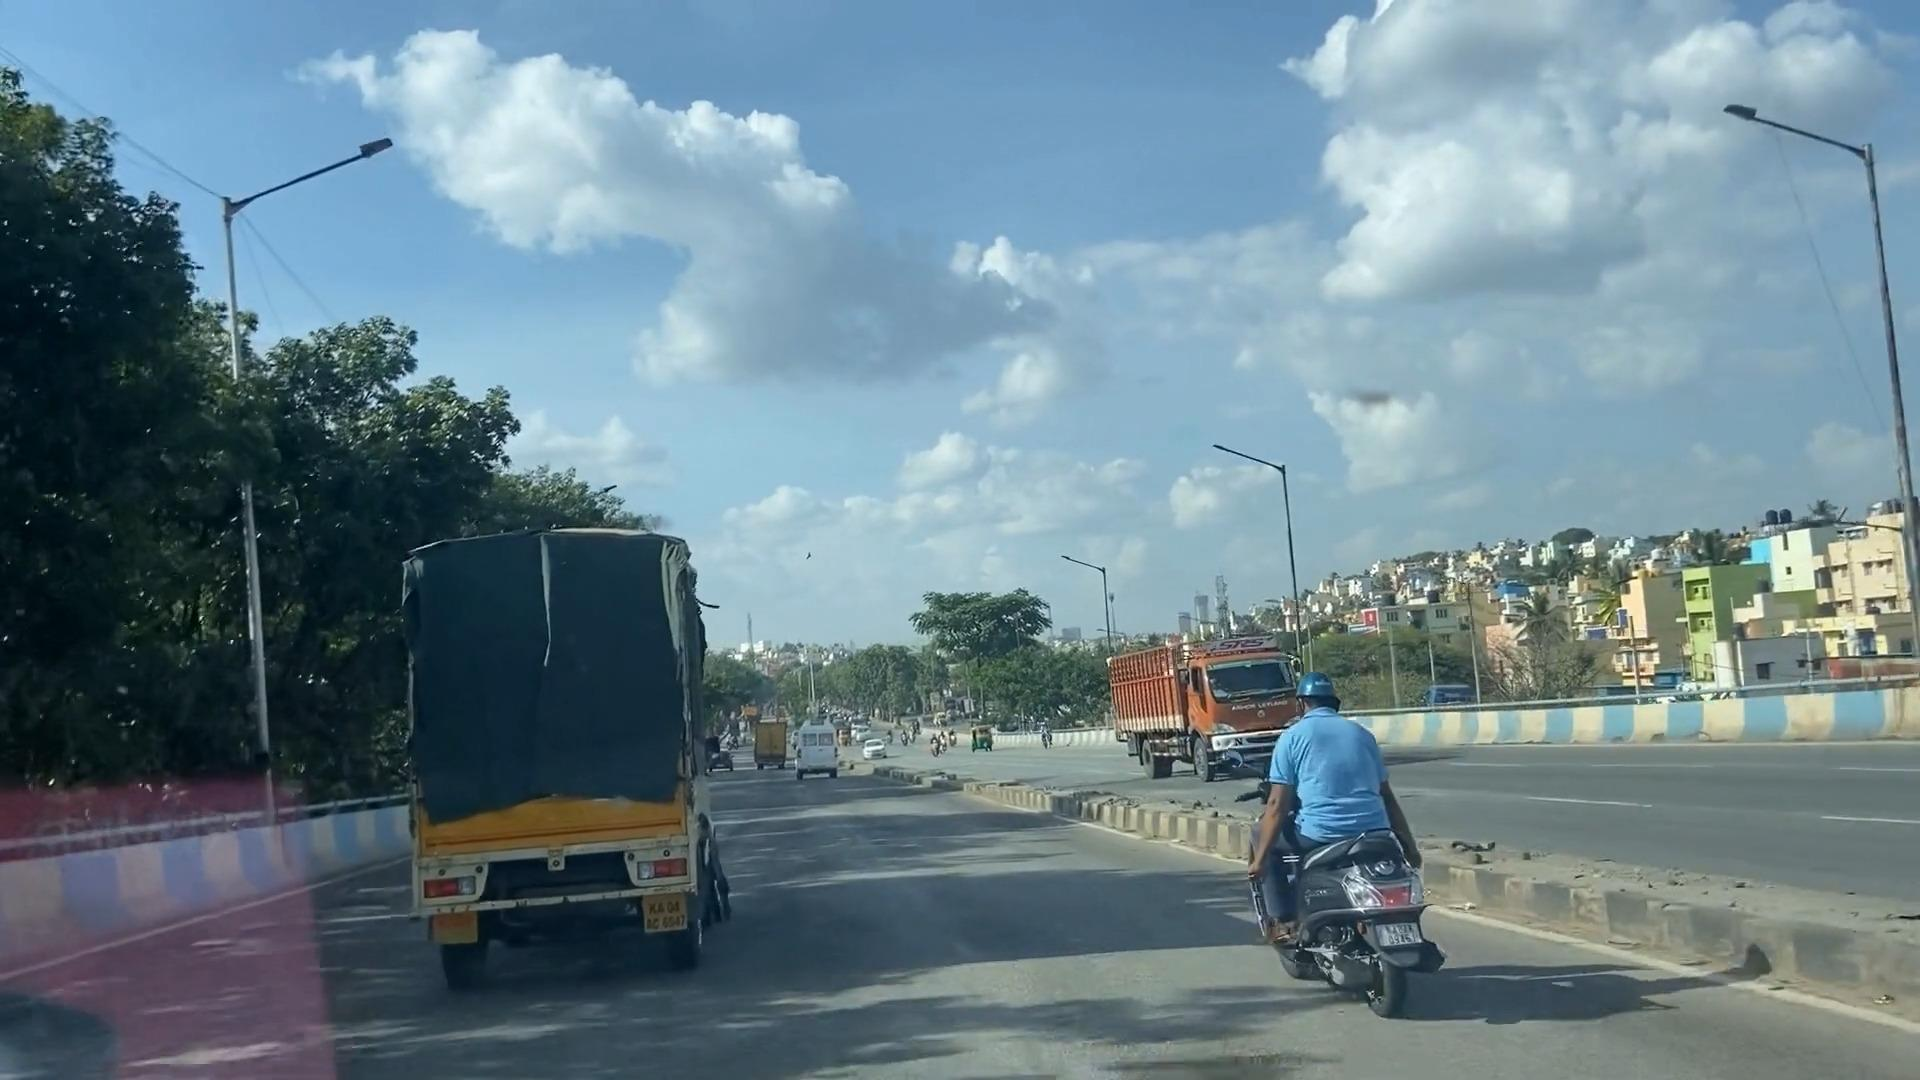HMV: (389, 513, 745, 967)
LMV: (1156, 630, 1412, 1023)
